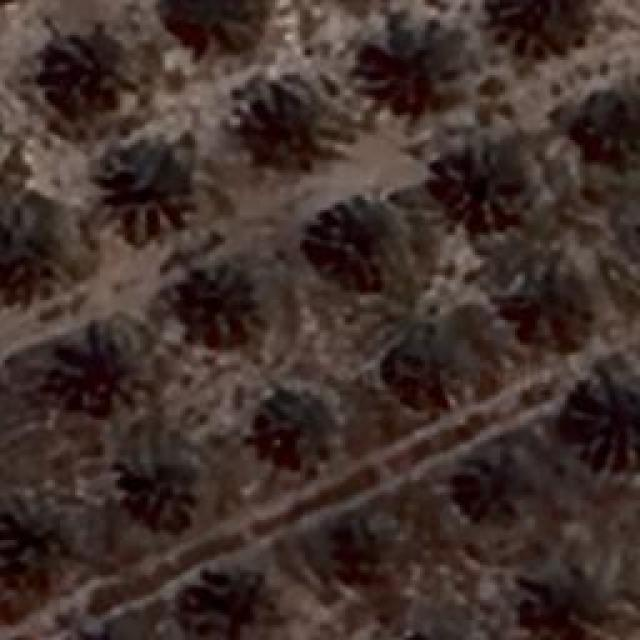PalmTree: (251, 82, 354, 182), (102, 152, 198, 248), (32, 30, 136, 118), (366, 26, 466, 116), (376, 326, 462, 414), (570, 360, 635, 470), (182, 264, 262, 348), (0, 183, 62, 288), (132, 452, 205, 538), (0, 501, 75, 584), (525, 570, 613, 640), (508, 275, 592, 345), (60, 334, 140, 406), (322, 196, 390, 279), (449, 146, 519, 224), (570, 96, 640, 174), (184, 580, 274, 640), (247, 388, 315, 462), (172, 0, 260, 48), (456, 454, 522, 518), (504, 0, 582, 50), (324, 521, 396, 569)
